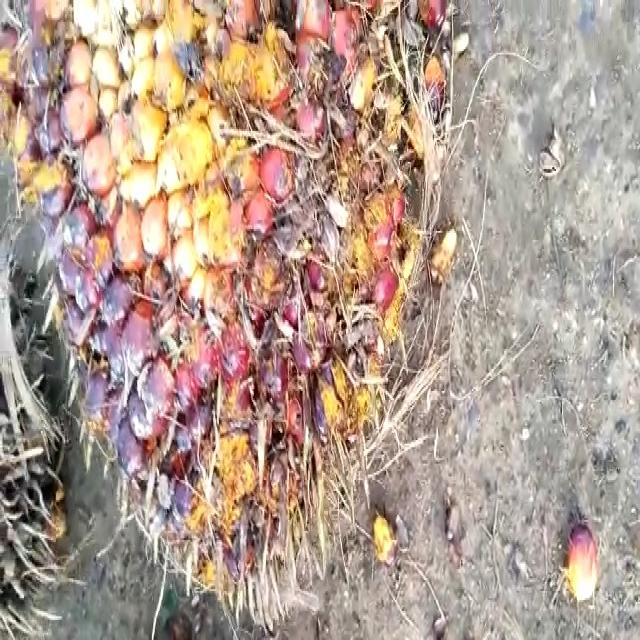palm oil: (15, 0, 494, 582)
